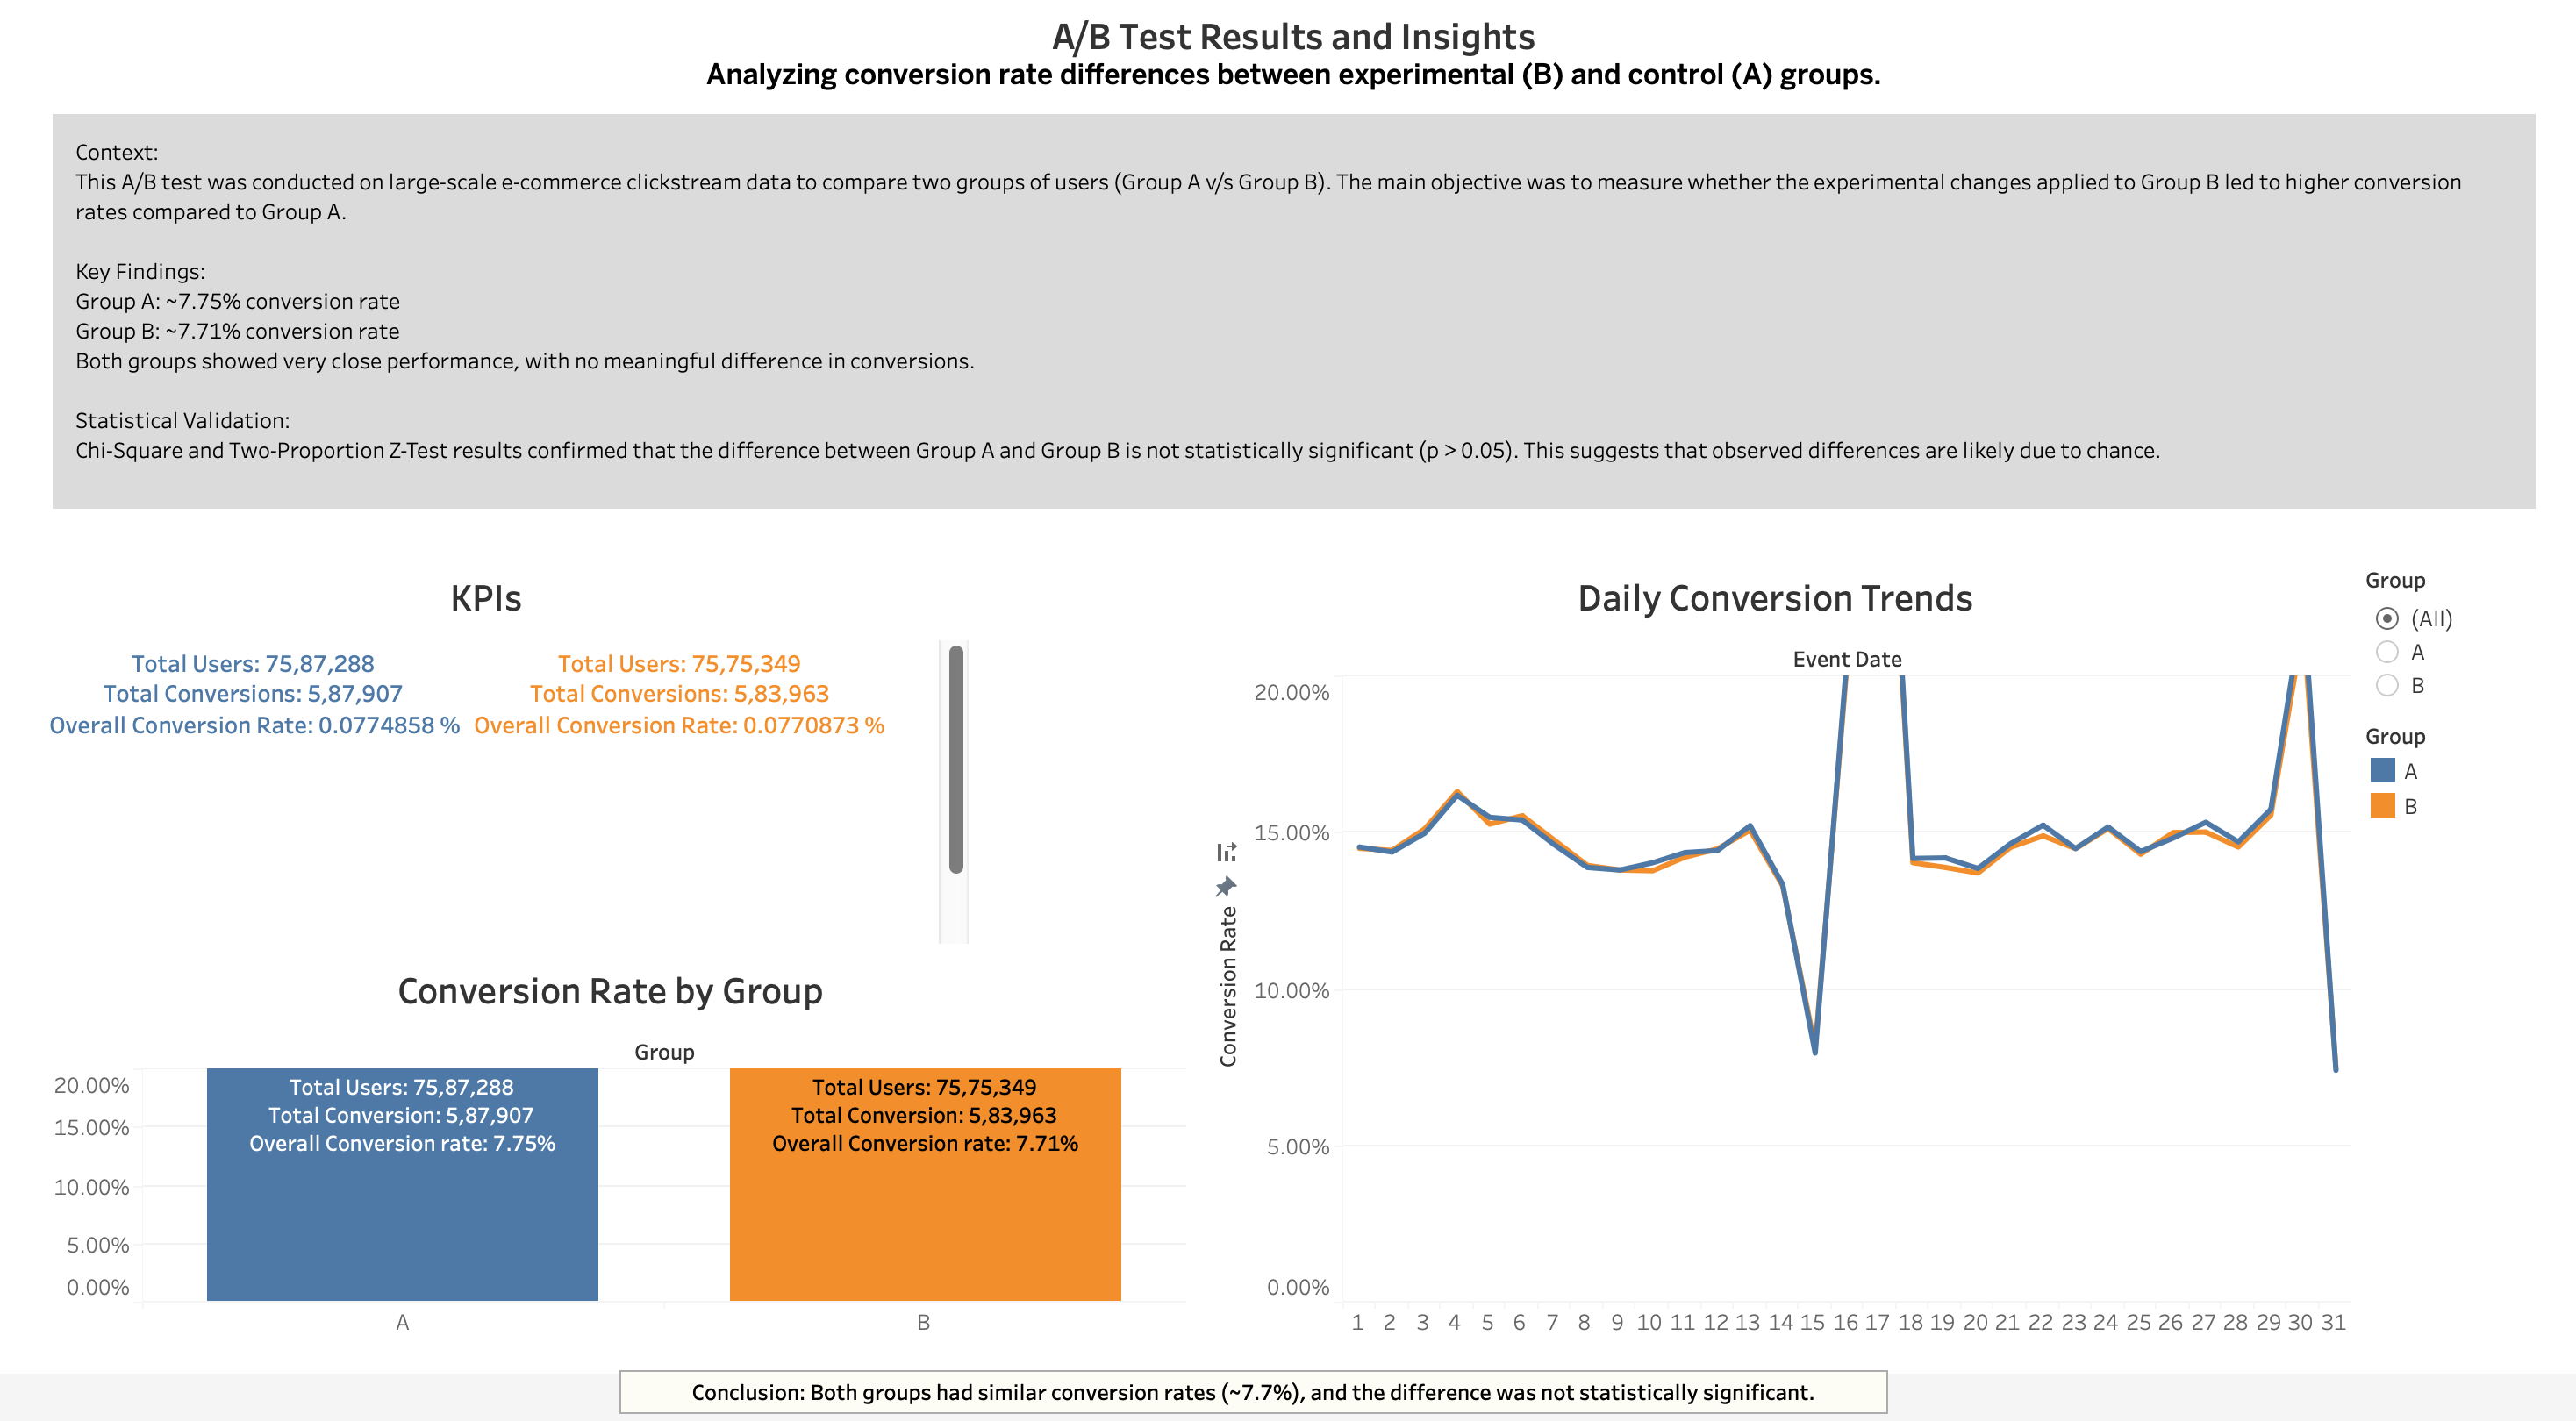

The dashboard page shown, as its layout file describes it:
{"tool":"tableau","page":{"name":"Conversion Rate Analysis – A vs B","canvas":[1450,465],"ordinal":0},"visuals":[{"type":"worksheet","title":"KPIs","mark":"Automatic","box":[8,8,664,224]},{"type":"worksheet","title":"Daily Conversion Trends","mark":"Automatic","rows":["conversion_rate"],"cols":["event_date"],"box":[672,8,664,449]},{"type":"filter","title":"Daily Conversion Trends","param":"[federated.10rce5p1lybrzi1gsy49z05vx2qw].[none:group:nk]","box":[1336,8,106,89]},{"type":"legend","title":"Conversion Rate by Group","param":"[federated.10rce5p1lybrzi1gsy49z05vx2qw].[none:group:nk]","box":[1336,97,106,66]},{"type":"worksheet","title":"Conversion Rate by Group","mark":"Automatic","rows":["conversion_rate"],"cols":["group"],"box":[8,232,664,225]}]}

Visuals, with their boxes on the page's 1450x465 design canvas (x1, y1, x2, y2). These are canvas units, not pixel positions in the 2576x1421 screenshot, which may show the page scaled, cropped or inside an application window:
"KPIs" worksheet: left=8, top=8, right=672, bottom=232
"Daily Conversion Trends" worksheet: left=672, top=8, right=1336, bottom=457
"Daily Conversion Trends" filter: left=1336, top=8, right=1442, bottom=97
"Conversion Rate by Group" legend: left=1336, top=97, right=1442, bottom=163
"Conversion Rate by Group" worksheet: left=8, top=232, right=672, bottom=457
